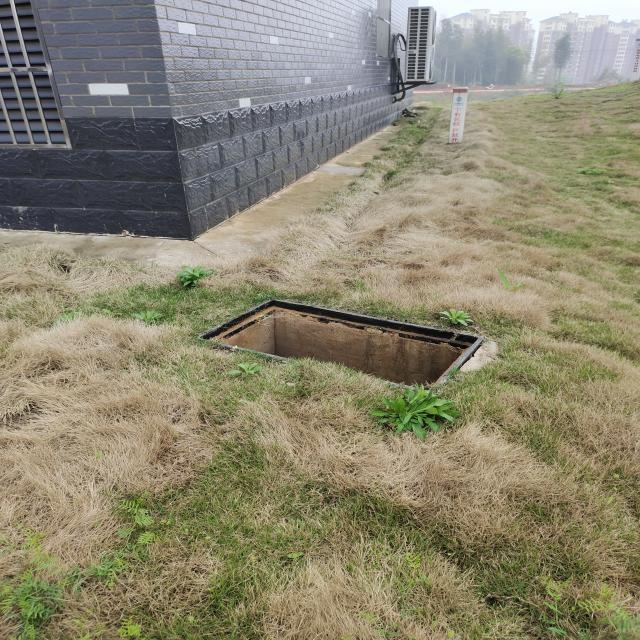Faulty: (189, 298, 483, 392)
